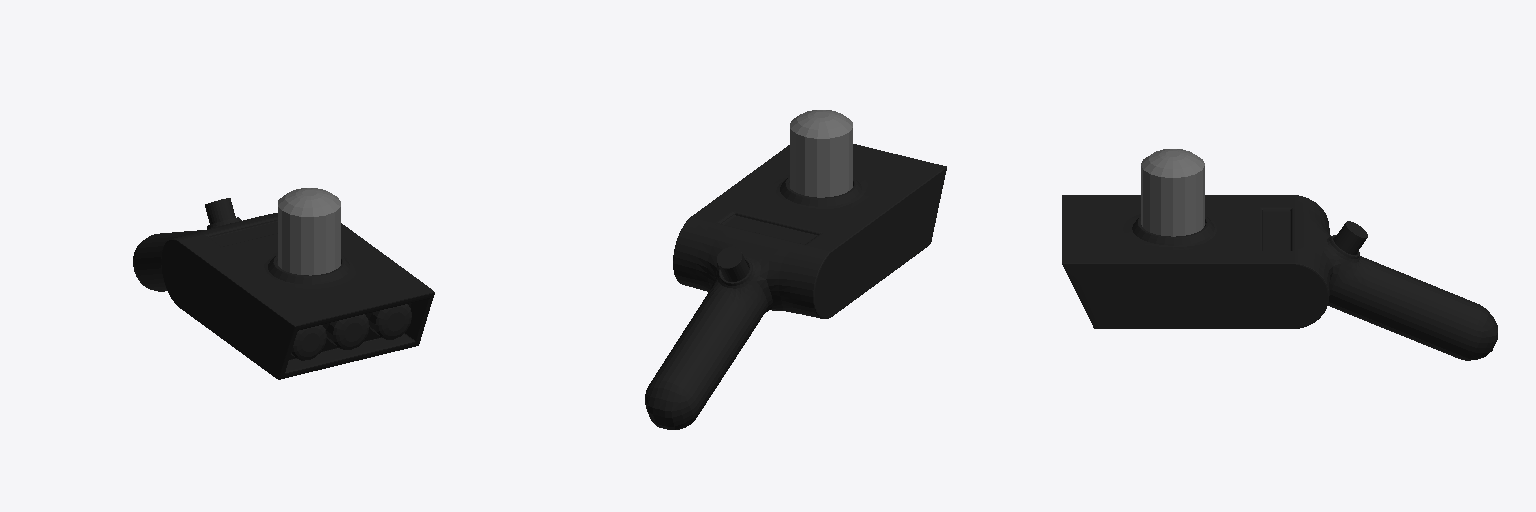
The model's file is Rickgun.obj.
3 views of the same model, side by side, from view 1: azimuth 30°, elevation 25°; view 2: azimuth 150°, elevation 25°; view 3: azimuth 270°, elevation 25° (orthographic).
Parts seen in each view (by area): view 1: Rickgun_obj, Glassout; view 2: Rickgun_obj, Glassout; view 3: Rickgun_obj, Glassout.
Boxes of the visible parts, <box> form: Rickgun_obj: <box>133,198,434,379</box>; Glassout: <box>278,188,340,275</box>; Rickgun_obj: <box>645,144,946,429</box>; Glassout: <box>790,110,852,197</box>; Rickgun_obj: <box>1062,195,1497,360</box>; Glassout: <box>1141,149,1204,236</box>.
Size of the model in its own units: 4.48 by 6.18 by 11.97.